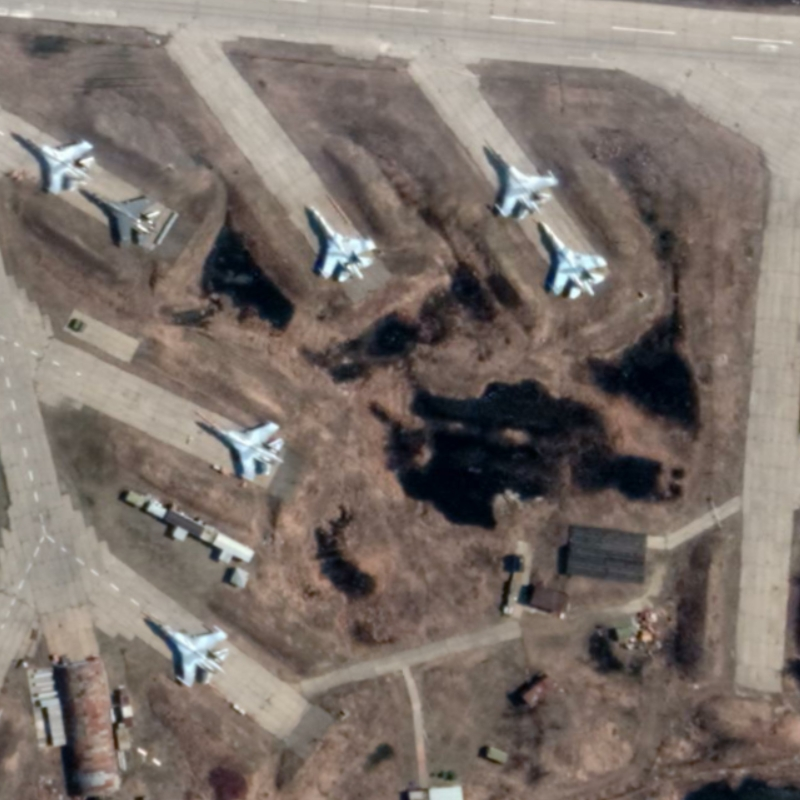A1: (144, 613, 231, 689), (537, 218, 609, 301), (201, 417, 287, 483), (308, 204, 378, 284), (11, 130, 97, 195), (489, 144, 561, 221), (84, 188, 162, 252)
